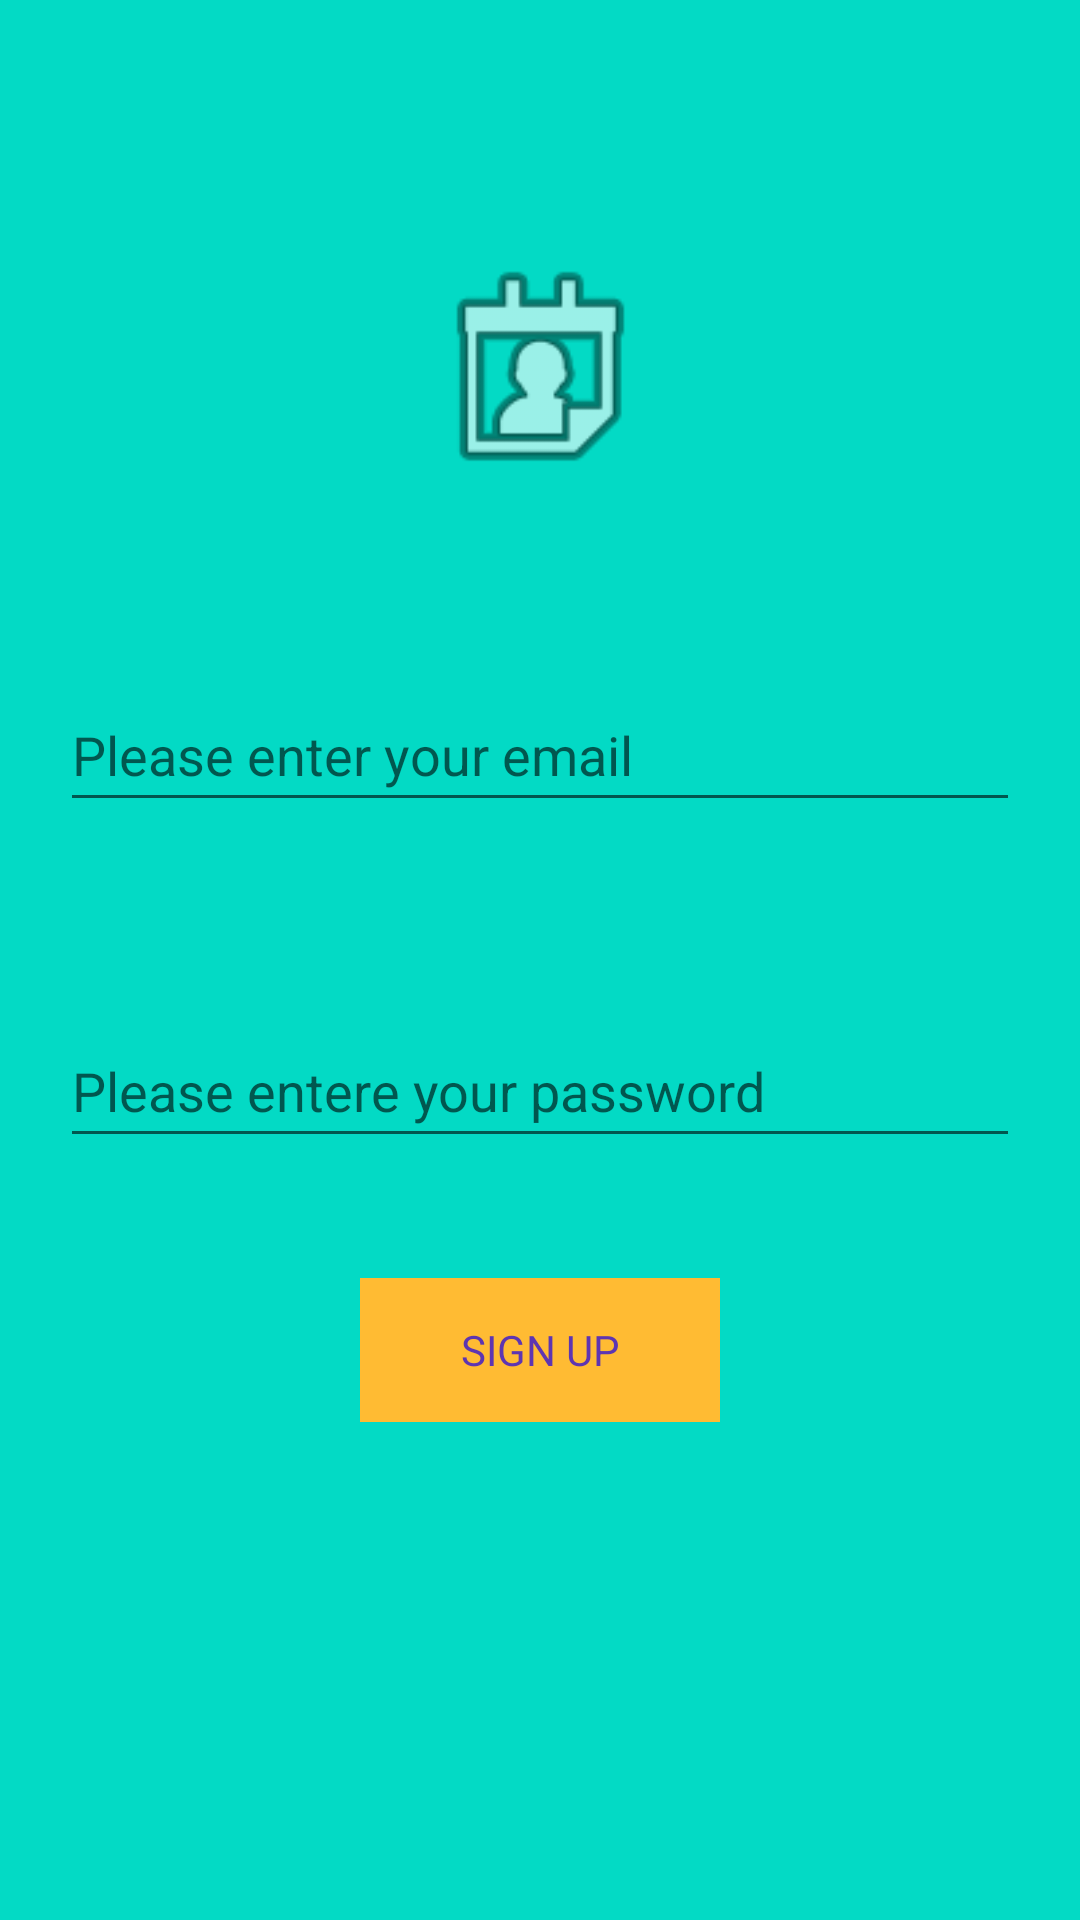

Named icons in this screenshot (1080x1920) and their bounding boxes, (x1, y1, x2, y2):
calendar: (457, 272, 624, 461)
